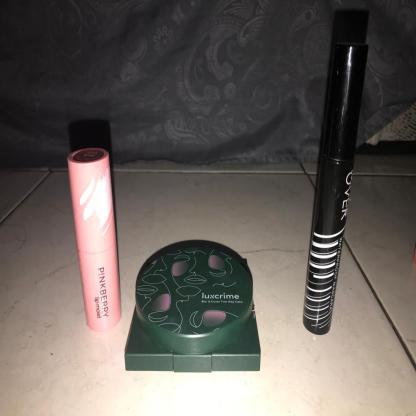lipstick: (42, 139, 127, 334)
